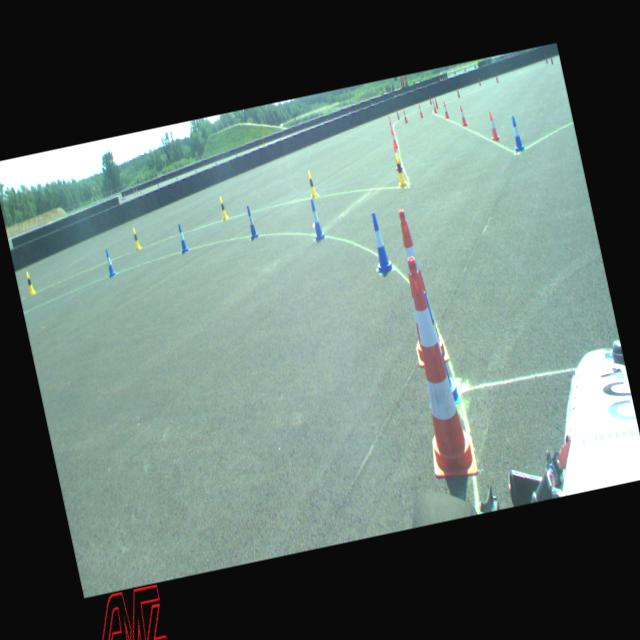blue_cone: (423, 288, 460, 406), (366, 210, 393, 274), (306, 197, 326, 240), (508, 114, 524, 152), (244, 204, 258, 239), (175, 222, 189, 254), (102, 248, 116, 277)
large_orange_cone: (389, 253, 478, 482), (386, 206, 449, 367)
orange_cone: (486, 110, 501, 141), (390, 142, 403, 172), (388, 126, 398, 149), (458, 104, 468, 126), (442, 102, 449, 118), (388, 120, 394, 136), (417, 103, 423, 118), (431, 99, 437, 113), (402, 110, 408, 122), (387, 114, 392, 128)
yellow_cone: (392, 151, 408, 188), (305, 170, 318, 198), (24, 270, 36, 294), (130, 226, 142, 250), (218, 196, 228, 220)
